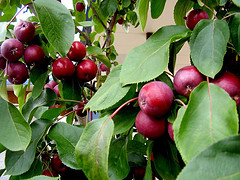apple: (136, 79, 176, 117), (74, 57, 99, 82), (51, 56, 76, 79), (24, 44, 47, 67)
